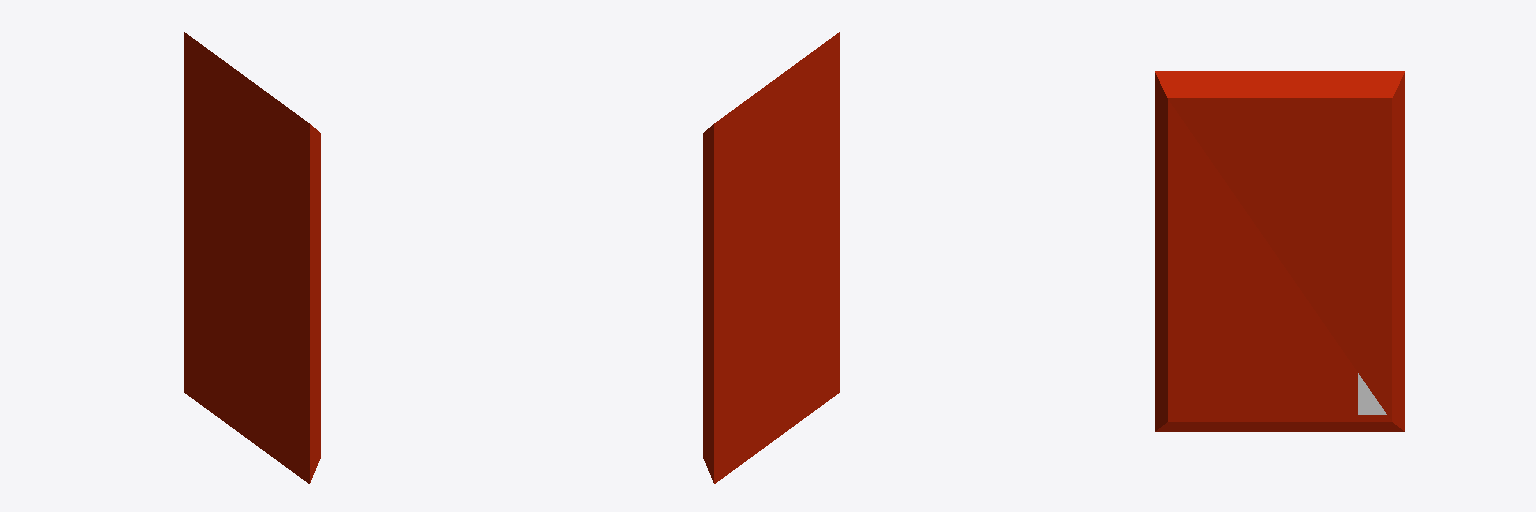
File: espejo2.obj
The picture shows the model from 3 angles: view 1: azimuth 30°, elevation 25°; view 2: azimuth 150°, elevation 25°; view 3: azimuth 270°, elevation 25°; orthographic projection.
Visible parts, largest first — view 1: marco; view 2: marco; view 3: marco, cristal.
Part boxes in pixels (x1,y1,x2,y2): marco: (184, 32, 320, 483); marco: (703, 32, 839, 483); marco: (1155, 71, 1404, 431); cristal: (1358, 373, 1386, 414).
Size of the model in its own units: 0.2849 by 5.48 by 3.45.